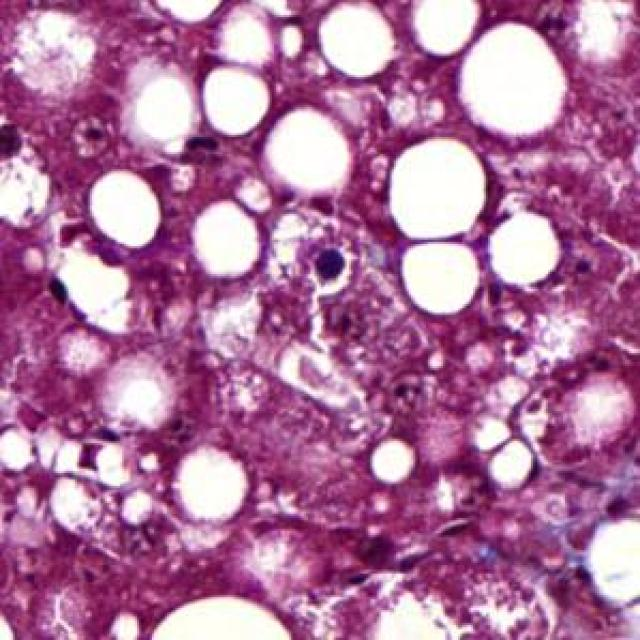steatosis: (388, 135, 494, 244), (261, 109, 353, 191), (86, 169, 167, 248), (188, 204, 268, 282), (176, 447, 254, 520)
